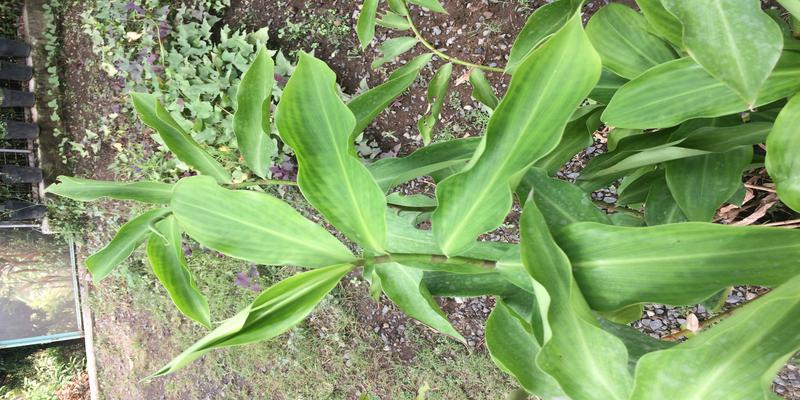Insulin: (223, 55, 800, 380)
